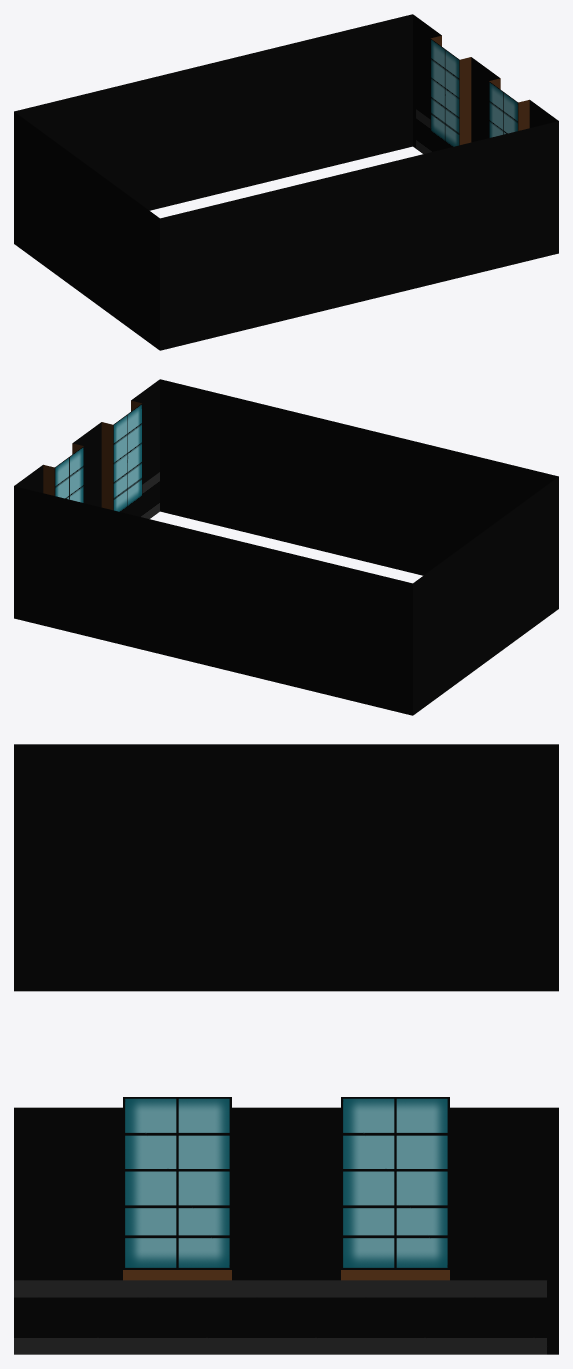
The model's file is Me_ApartmentModule.fbx.
The picture shows the model from 3 angles, top to bottom: view 1: azimuth 30°, elevation 25°; view 2: azimuth 150°, elevation 25°; view 3: azimuth 270°, elevation 25°; orthographic projection. The views are drawn at different scales.
Parts seen in each view (by area): view 1: Cube; view 2: Cube; view 3: Cube.
Boxes of the visible parts, left/top/right/bottom form: Cube: left=14, top=14, right=558, bottom=350; Cube: left=14, top=379, right=558, bottom=715; Cube: left=14, top=744, right=558, bottom=1354.
Bounding box in the file's own units: 631 × 200 × 400.
